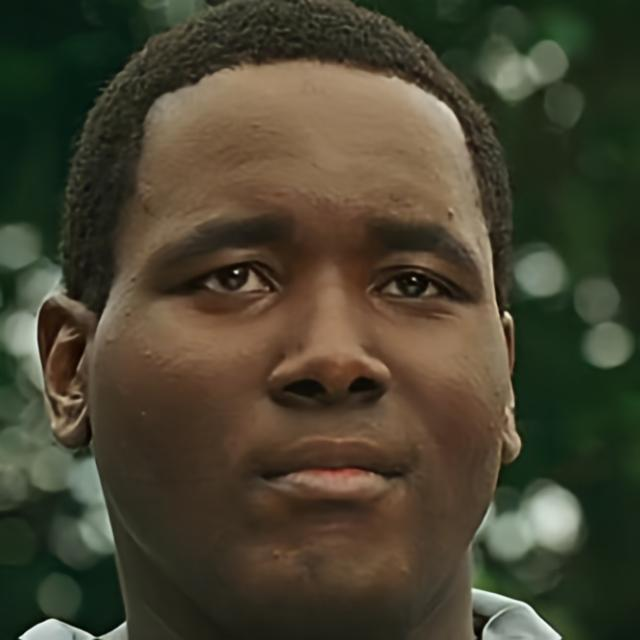content: (90, 50, 512, 640)
